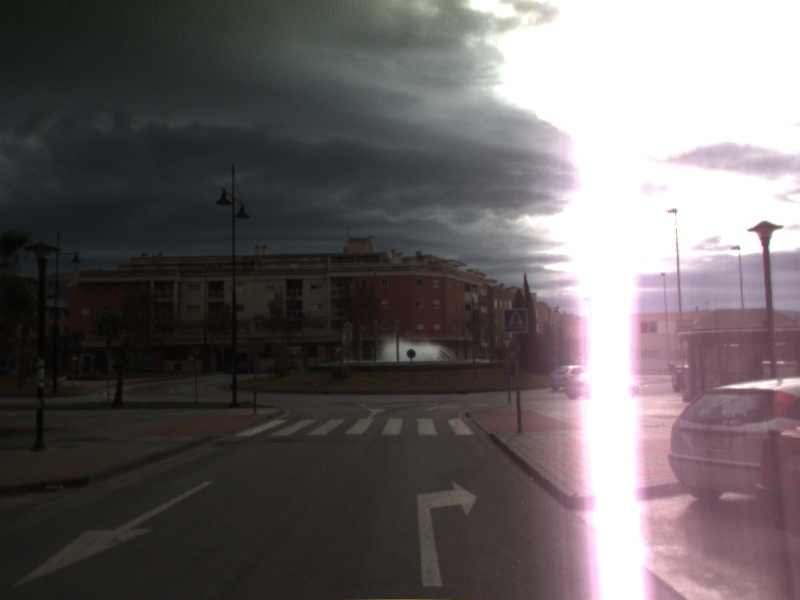RIGHT: (414, 478, 480, 589)
